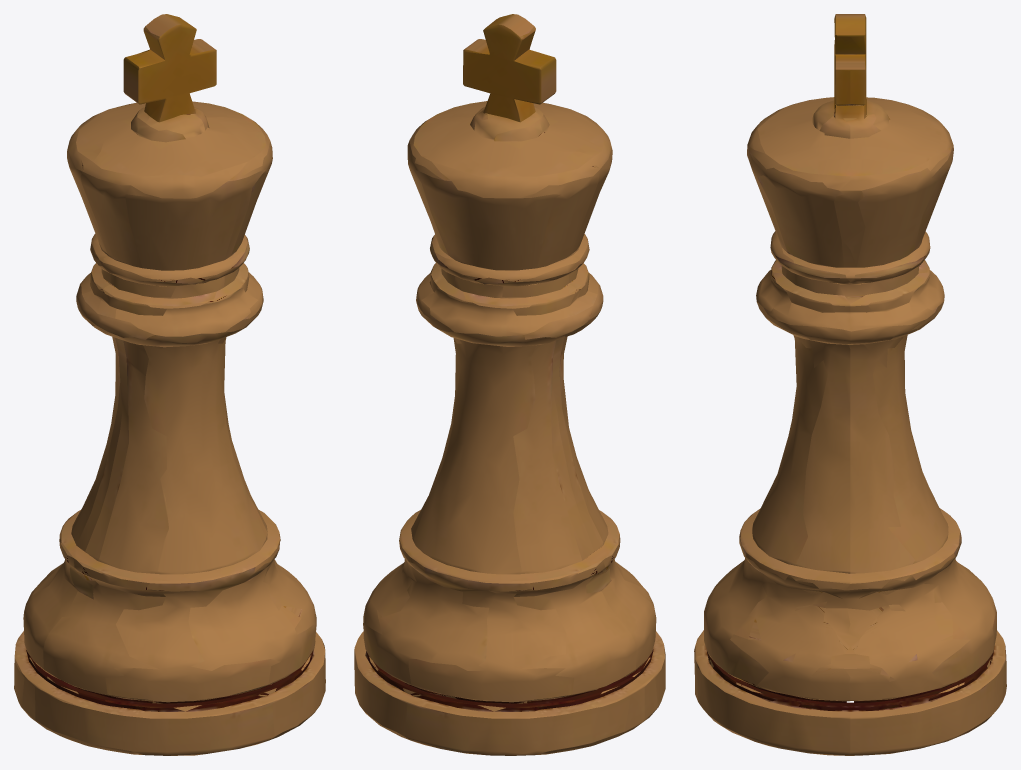
3 renders of one model, left to right at view 1: azimuth 30°, elevation 25°; view 2: azimuth 150°, elevation 25°; view 3: azimuth 270°, elevation 25°, orthographic.
Visible parts, largest first — view 1: geometry_0; view 2: geometry_0; view 3: geometry_0.
Boxes of the visible parts, <box> form: geometry_0: <box>14,14,325,755</box>; geometry_0: <box>354,14,665,755</box>; geometry_0: <box>694,14,1006,755</box>.
Bounding box in the file's own units: 0.4203 × 1 × 0.4199.
1 material, 1 textured.
